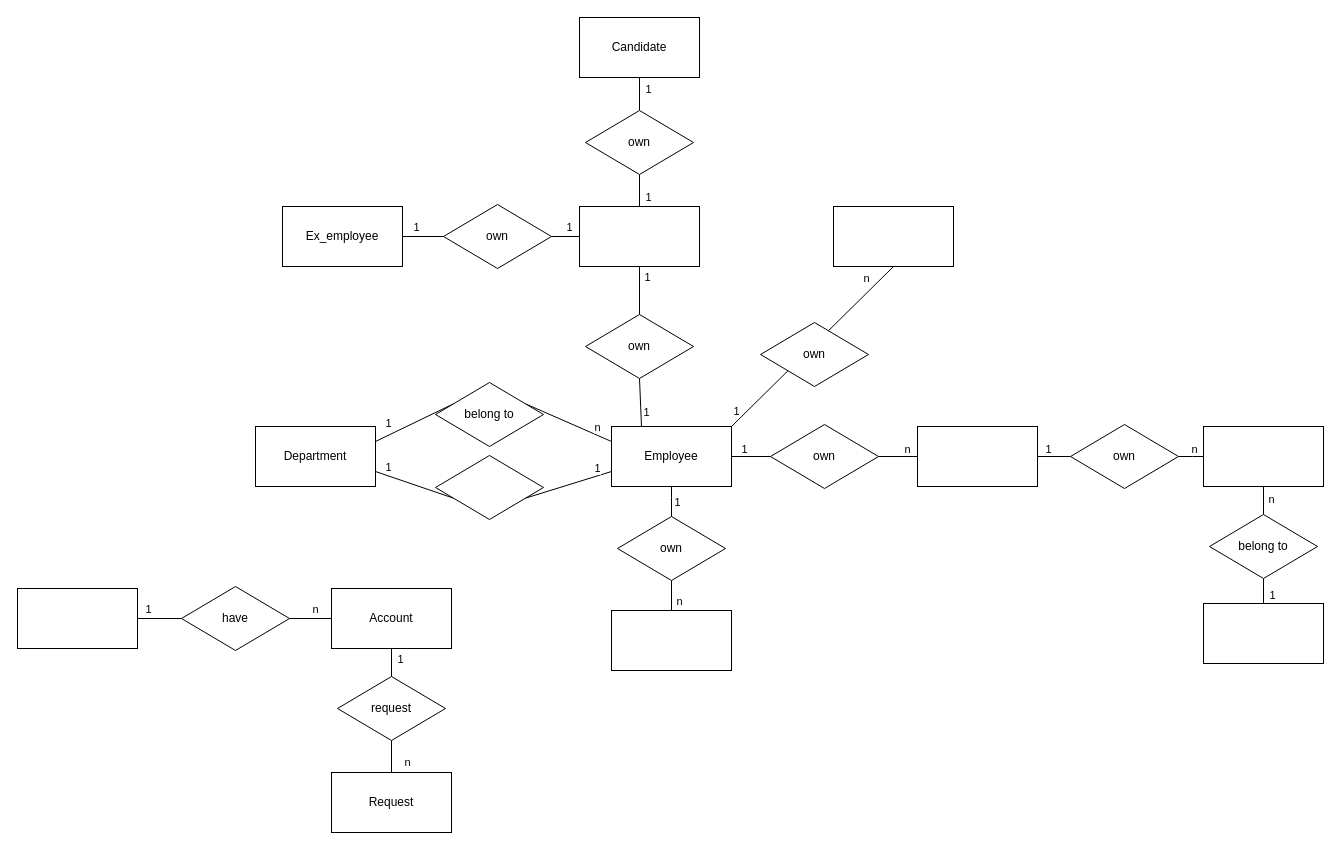
The diagram is 1341 pixels wide and 850 high, and some of its shapes have lost their labels. The centre of each missing label's shape, as x and y in pixels:
Daily_tk: (671,640)
File_attachment: (639,236)
is head: (489,487)
Payslip: (893,236)
Permission: (77,618)
Timekeeping: (977,456)
tk_day: (1263,456)
tk_type: (1263,633)
